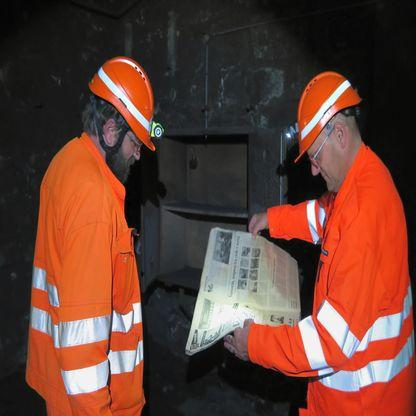helmet: (90, 58, 155, 150), (297, 74, 360, 159)
vest: (26, 136, 145, 411), (305, 157, 414, 408)
